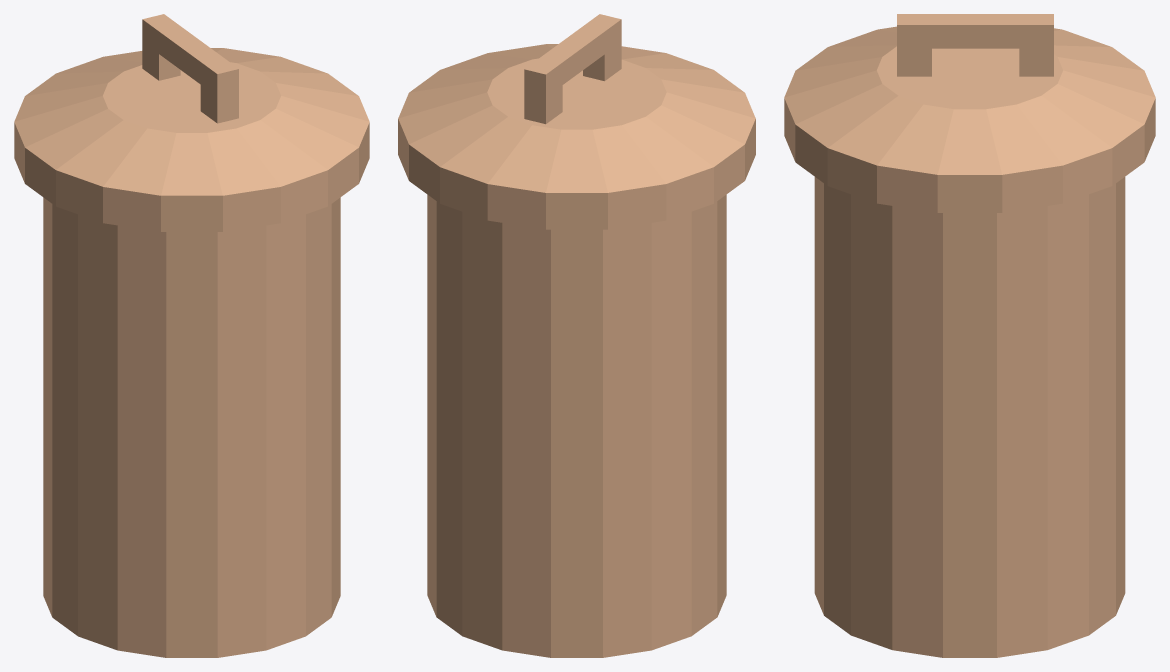
The model's file is trashcan.fbx.
3 views of the same model, side by side, from view 1: azimuth 30°, elevation 25°; view 2: azimuth 150°, elevation 25°; view 3: azimuth 270°, elevation 25° (orthographic). The views are drawn at different scales.
Parts seen in each view (by area): view 1: Cube.185; view 2: Cube.185; view 3: Cube.185.
Boxes of the visible parts, bbox=[...] form: Cube.185: bbox=[14, 14, 369, 657]; Cube.185: bbox=[398, 14, 755, 657]; Cube.185: bbox=[784, 14, 1155, 657].
Size of the model in its own units: 181 by 313 by 184.
